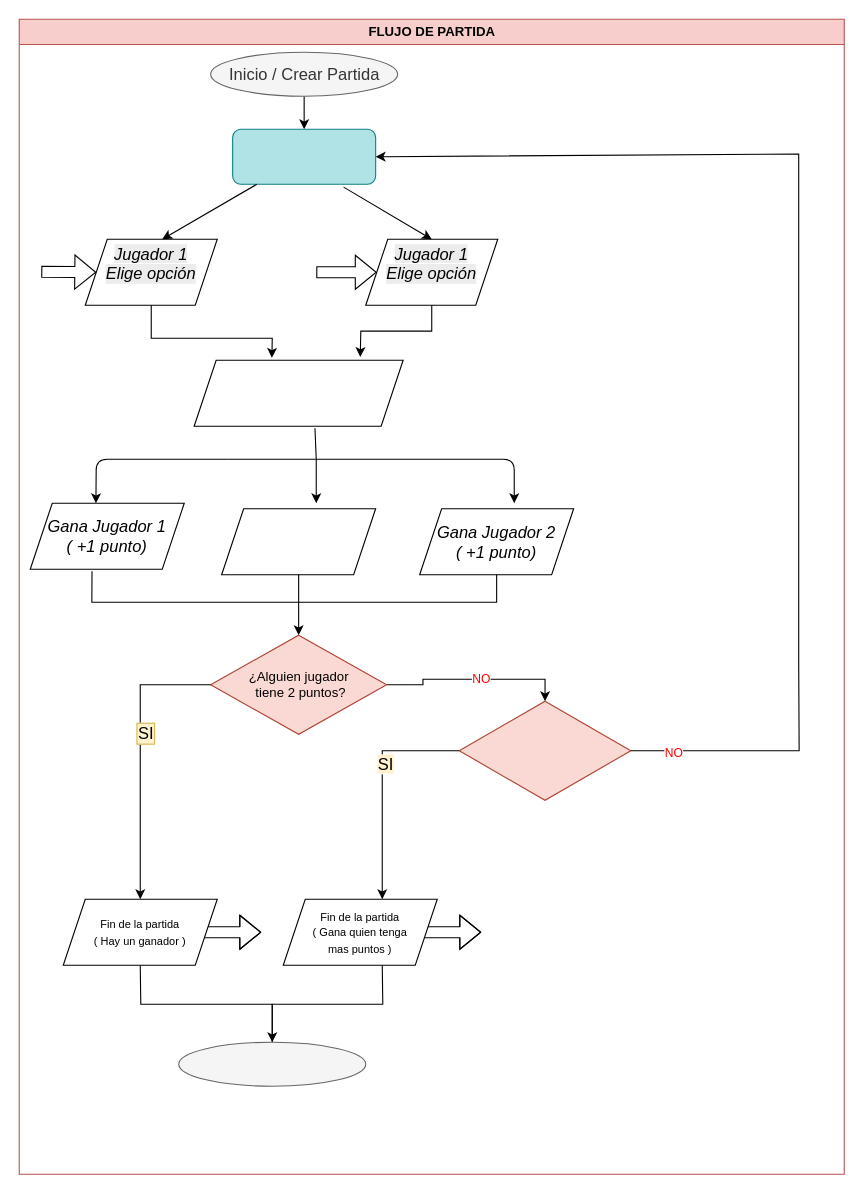
Image size: 864x1194. Some labels were removed from this diagram. Here are the shapes that lost their labels. From the top down, the centre of each, then its label:
(x=304, y=156): Ronda N (1 a 3 )
(x=298, y=392): Comparar jugadas
(x=298, y=541): Empate (sin puntos)
(x=544, y=750): ¿Se jugaron 3 rondas?
(x=272, y=1063): Fin
